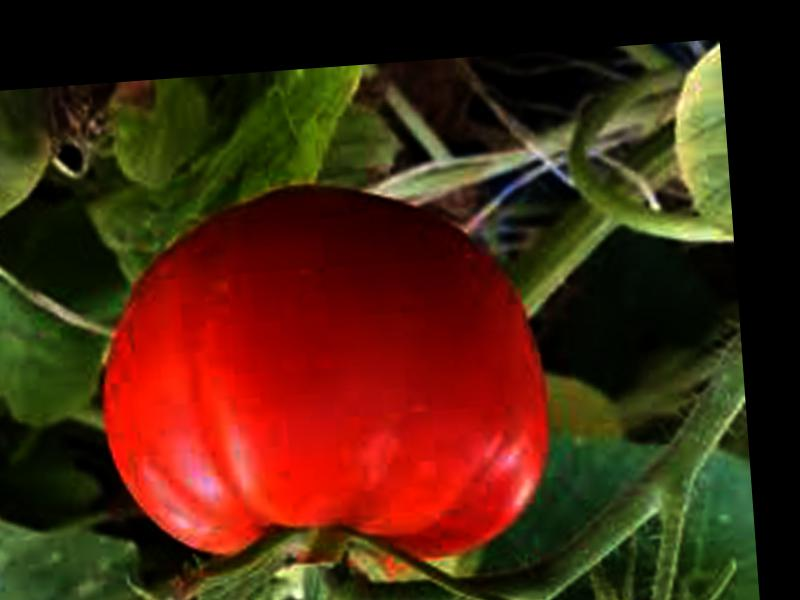Tomato: (88, 174, 561, 580)
